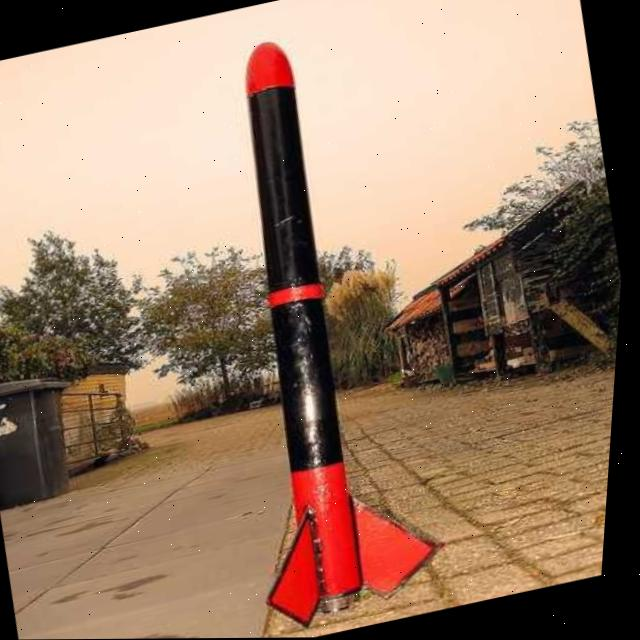missile: (157, 23, 474, 629)
